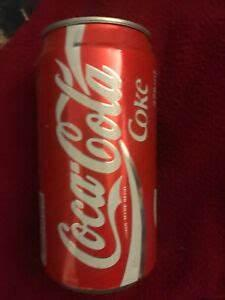metal: (37, 17, 156, 290)
